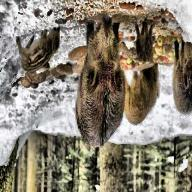boar: (62, 0, 113, 157), (120, 72, 167, 128), (13, 26, 62, 78), (168, 54, 192, 128)
